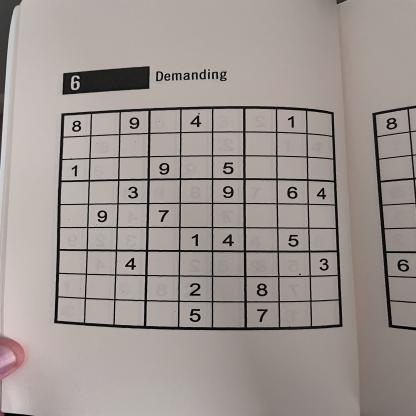sudoku: (51, 104, 348, 335)
